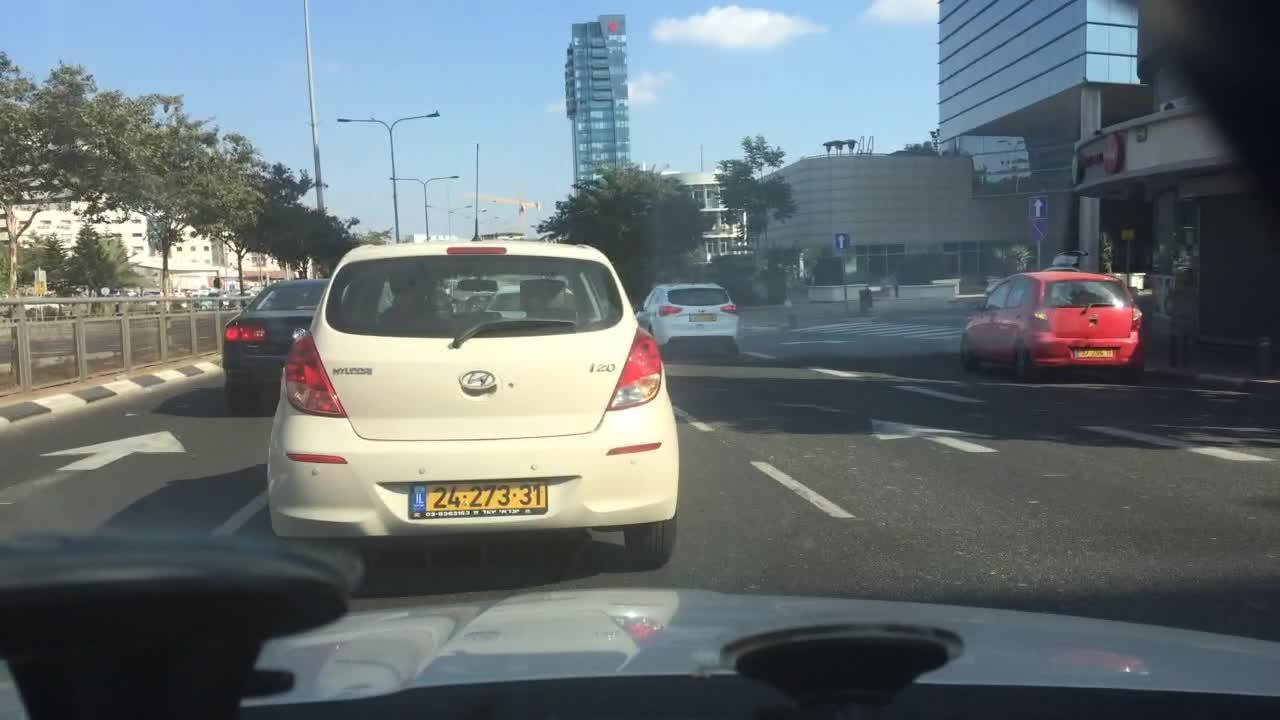Hyundai: (455, 363, 501, 399)
